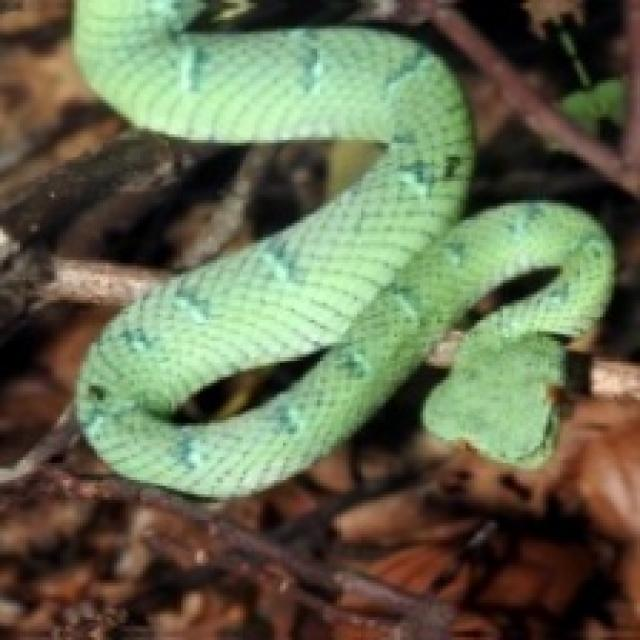north ph temple pitviper: (74, 0, 611, 494)
